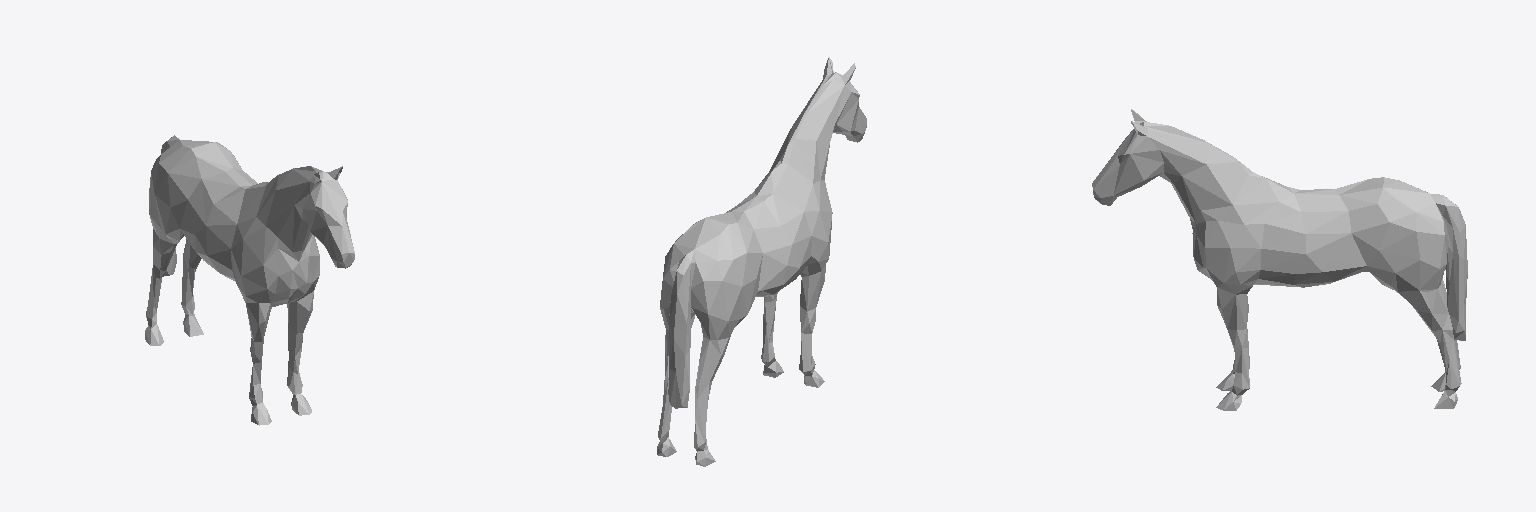
Rendered from horse.obj.
3 renders of one model, left to right at view 1: azimuth 30°, elevation 25°; view 2: azimuth 150°, elevation 25°; view 3: azimuth 270°, elevation 25°, orthographic.
Visible parts, largest first — view 1: horse; view 2: horse; view 3: horse.
Part boxes in pixels (x1,y1,x2,y2): horse: (145, 135, 354, 425); horse: (657, 57, 866, 466); horse: (1092, 109, 1467, 410).
Bounding box in the file's own units: 23.32 × 78.62 × 94.48.